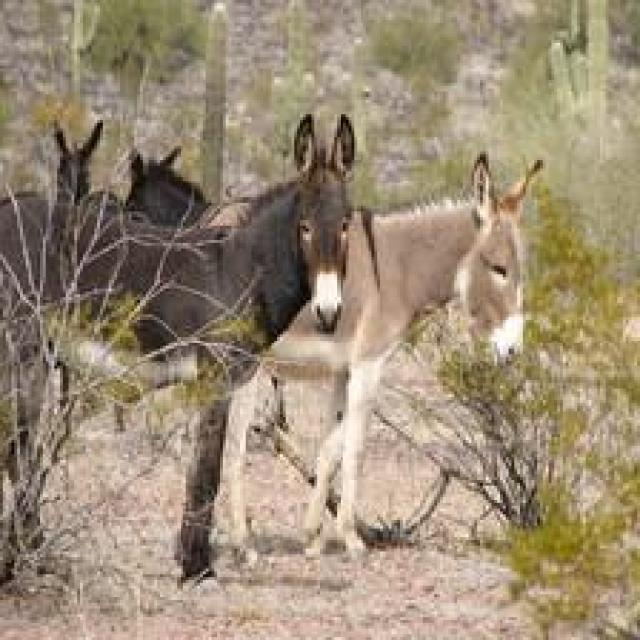Donkey: (0, 111, 357, 588), (194, 148, 543, 563), (0, 117, 103, 586), (120, 143, 211, 226)
